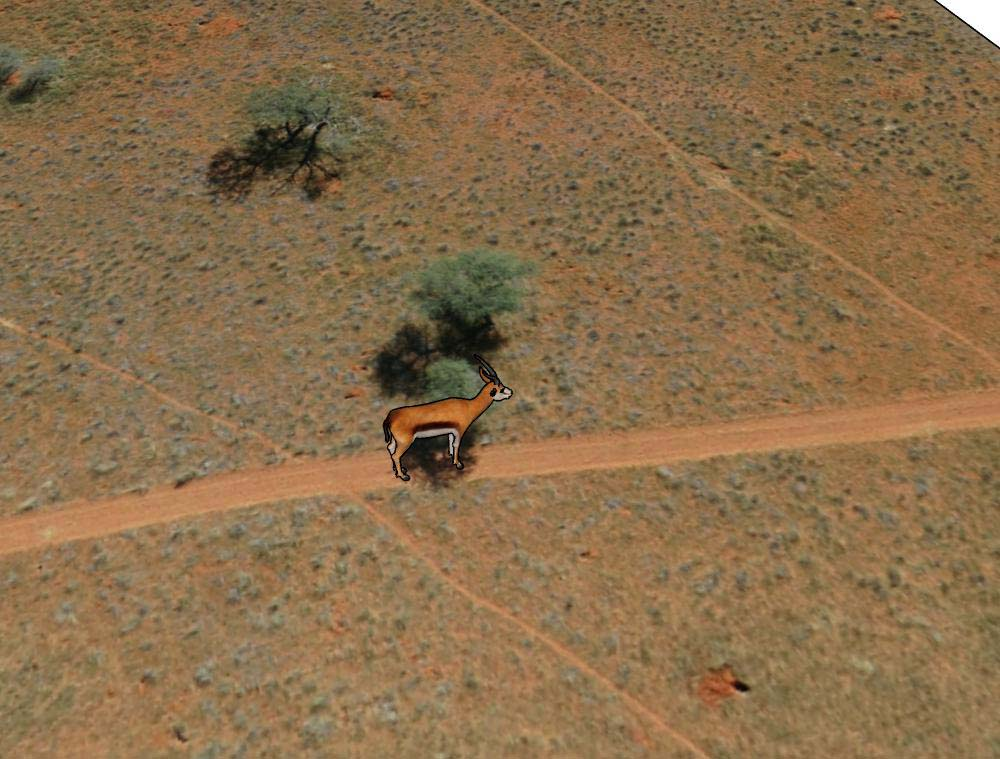springbok: (379, 357, 513, 484)
